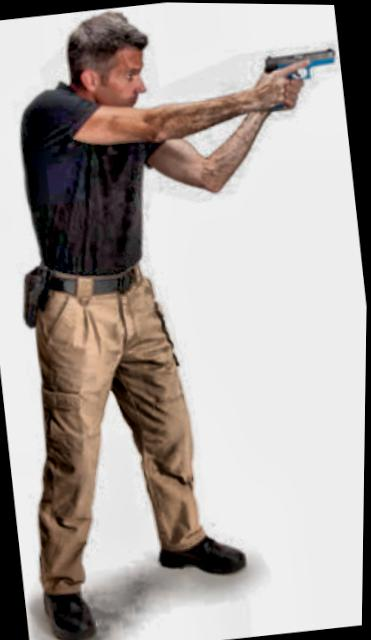pistol: (260, 44, 340, 111)
